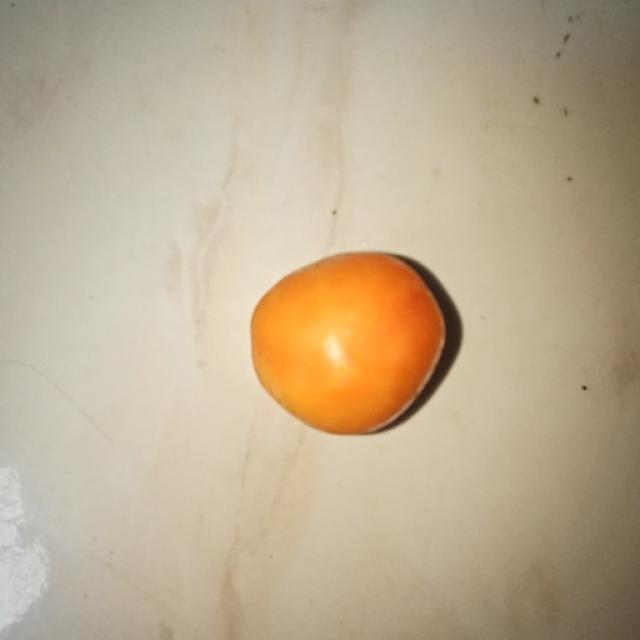Red: (248, 250, 446, 436)
